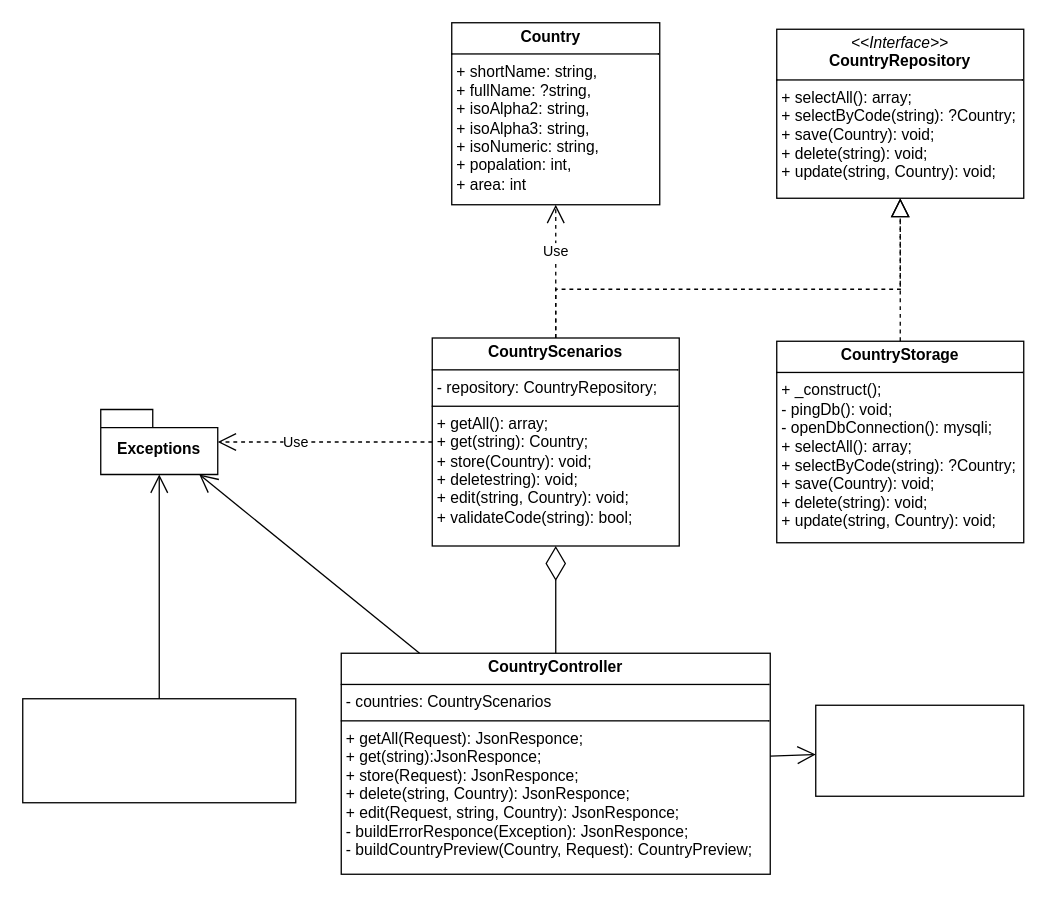
This 1047x897 diagram has some shape labels left out. Each missing label, with the box of its shape:
CountryPrevie + name: string; + uri: string;: (814, 704, 1024, 796)
RootController + index(Request): JsonResponce; + ping(): JsonResponce;: (21, 697, 296, 803)
